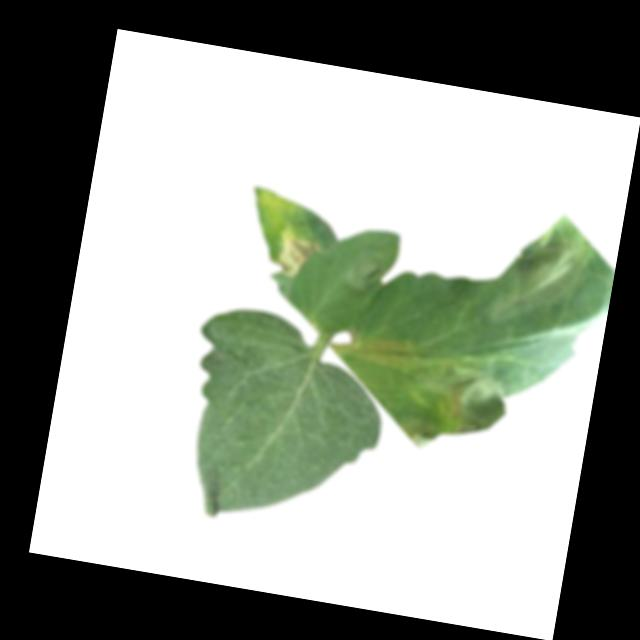Late_blight: (486, 230, 590, 333), (410, 356, 513, 442), (274, 226, 329, 282), (344, 247, 389, 295), (393, 410, 440, 451)
healthy: (169, 302, 398, 548)
